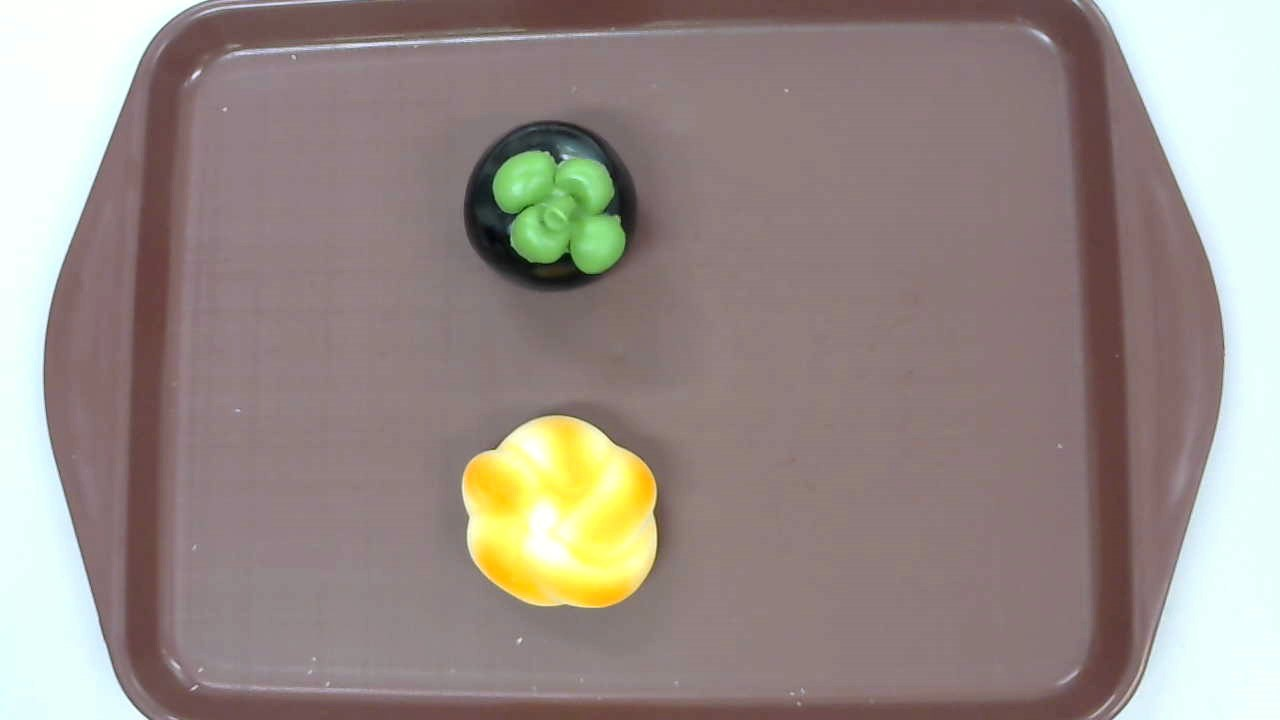mangosteen: (464, 121, 638, 292)
twist bread: (462, 416, 659, 610)
